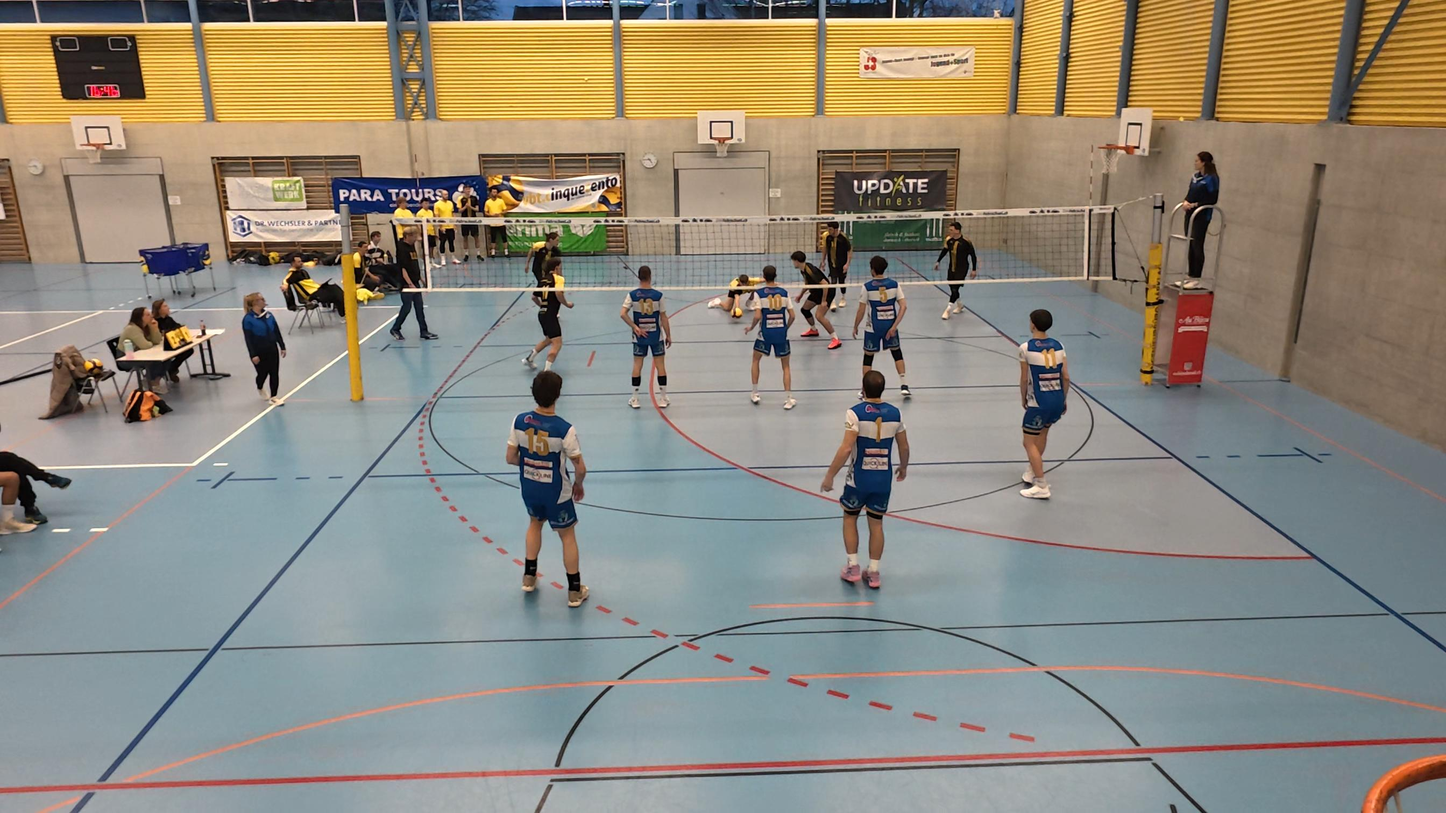Dig: (708, 270, 758, 330)
Player: (504, 373, 587, 607), (825, 368, 910, 589), (1017, 308, 1068, 501), (853, 256, 912, 400), (741, 270, 799, 408), (622, 265, 674, 411), (792, 249, 841, 349), (524, 263, 567, 371), (935, 222, 976, 320), (820, 219, 854, 327), (526, 224, 564, 282)
ball: (728, 306, 744, 321)
